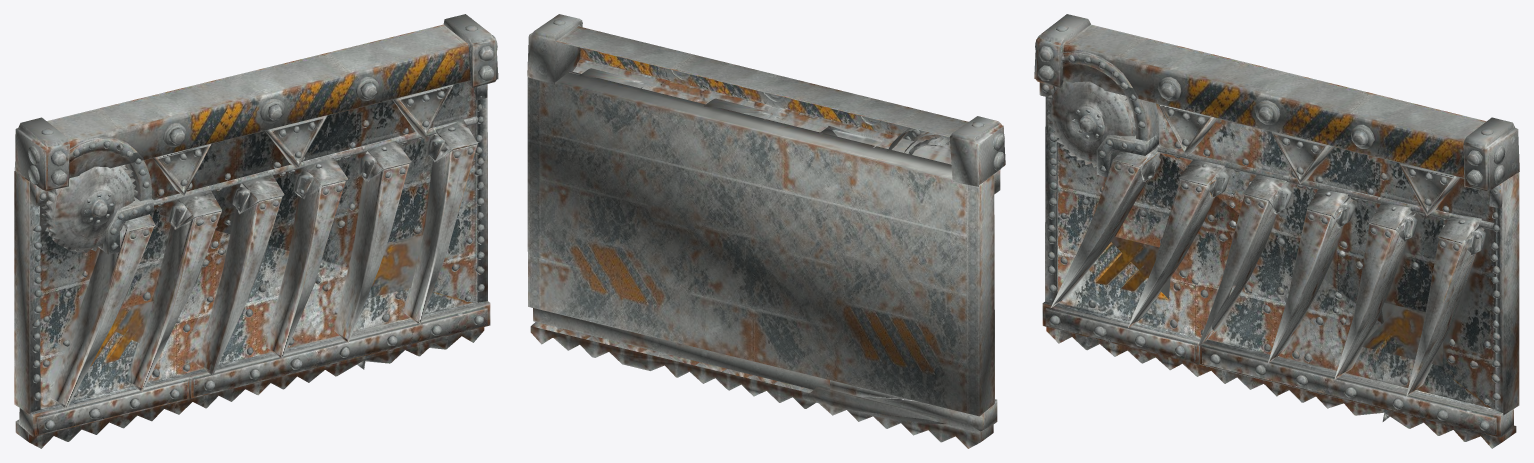
The model's file is train-armor-wing.glb.
3 views of the same model, side by side, from view 1: azimuth 30°, elevation 25°; view 2: azimuth 150°, elevation 25°; view 3: azimuth 330°, elevation 25° (orthographic).
Visible parts, largest first — view 1: train-armor-wing; view 2: train-armor-wing; view 3: train-armor-wing.
Part boxes in pixels (box(x1,y1,x2,y2)): train-armor-wing: box(14, 14, 498, 448); train-armor-wing: box(527, 14, 1005, 448); train-armor-wing: box(1034, 14, 1519, 448).
Bounding box in the file's own units: 1.5 × 0.9926 × 0.1837.
Materials: 1 (1 with a texture image).
